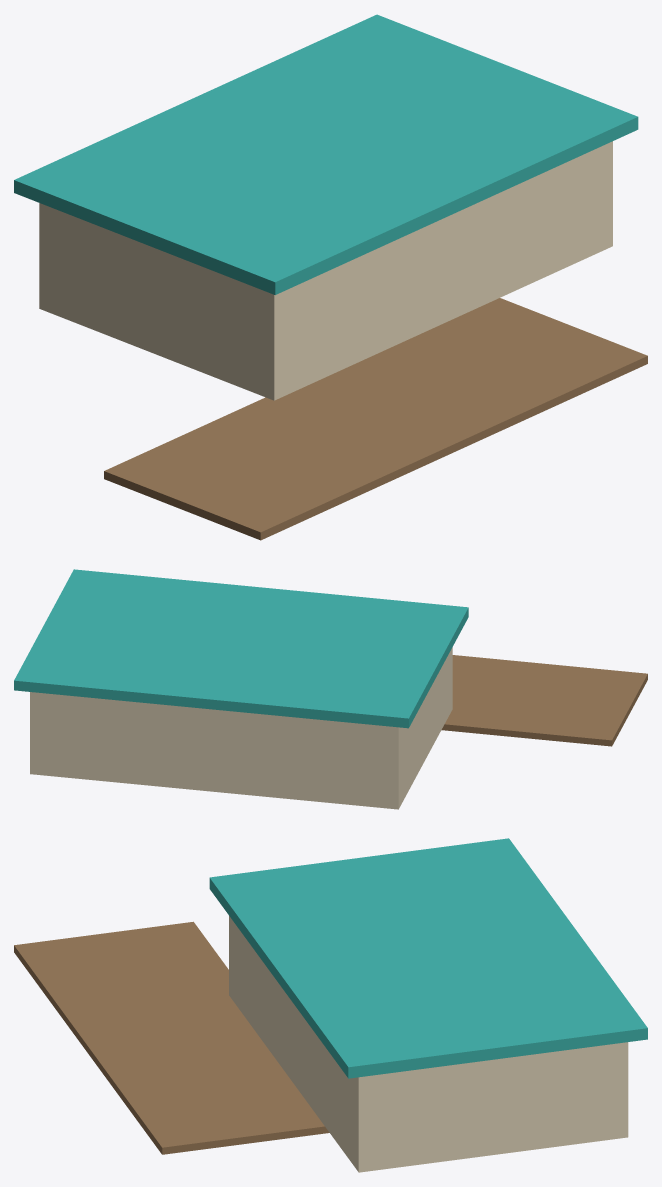
Rendered from fishhouse.glb.
3 renders of one model, top to bottom at view 1: azimuth 30°, elevation 25°; view 2: azimuth 150°, elevation 25°; view 3: azimuth 270°, elevation 25°, orthographic. The views are drawn at different scales.
Parts seen in each view (by area): view 1: fishhouse_lod0; view 2: fishhouse_lod0; view 3: fishhouse_lod0.
Part boxes in pixels (left/top/right/bottom): fishhouse_lod0: left=14, top=14, right=647, bottom=540; fishhouse_lod0: left=14, top=569, right=647, bottom=809; fishhouse_lod0: left=14, top=838, right=647, bottom=1172.
Size of what is drawn, in the model's own units: 20.17 by 4.53 by 20.22.
